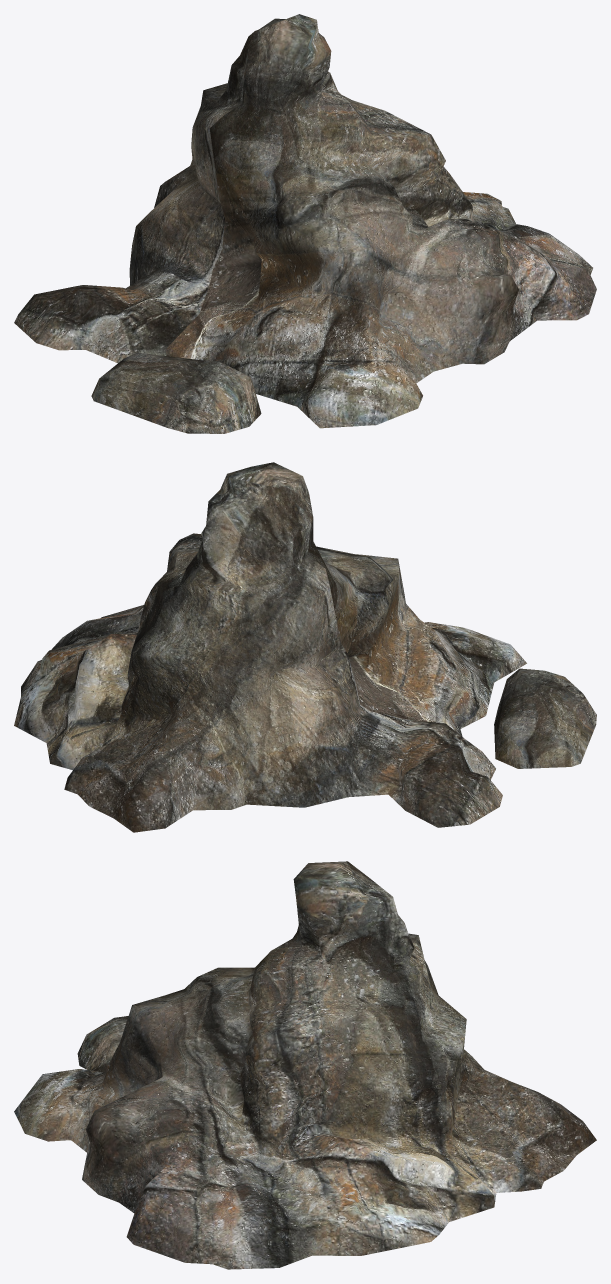
The model's file is Rock_01.FBX.
3 views of the same model, one above another, from view 1: azimuth 30°, elevation 25°; view 2: azimuth 150°, elevation 25°; view 3: azimuth 270°, elevation 25° (orthographic). The views are drawn at different scales.
Parts seen in each view (by area): view 1: Rock_01; view 2: Rock_01; view 3: Rock_01.
Boxes of the visible parts, x1=… form: Rock_01: x1=14, y1=14, x2=596, y2=433; Rock_01: x1=14, y1=462, x2=596, y2=832; Rock_01: x1=14, y1=861, x2=596, y2=1269.
Size of the model in its own units: 64.81 by 33.66 by 62.97.
